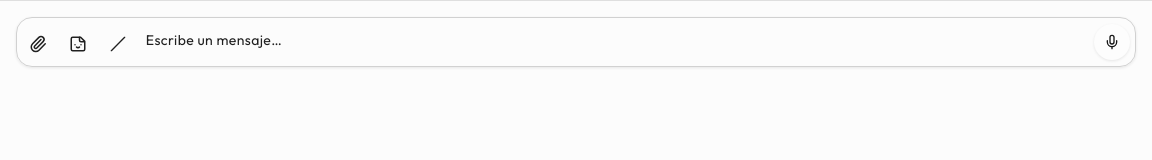
Scenario: Composer › voice notes › discards a recording without sending
Click the button named "Grabar nota de voz" at (1112, 42), box [1094,24,1130,60]
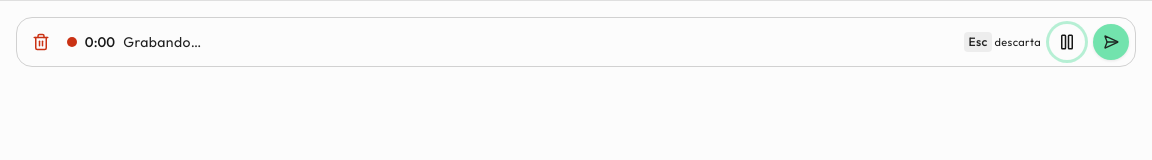
Expected: the element named "Grabando nota de voz" is shown, [16,17,1136,67]
Press Escape
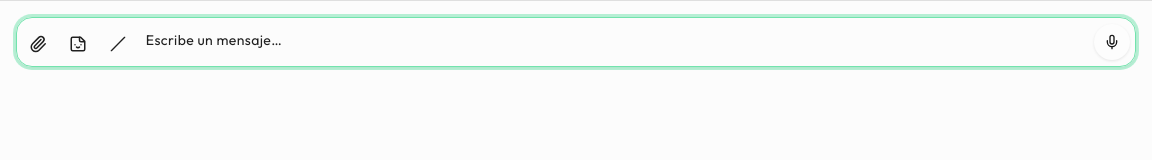
Expected: the text box with placeholder "Escribe un mensaje…" is shown, [134,20,1094,64]
